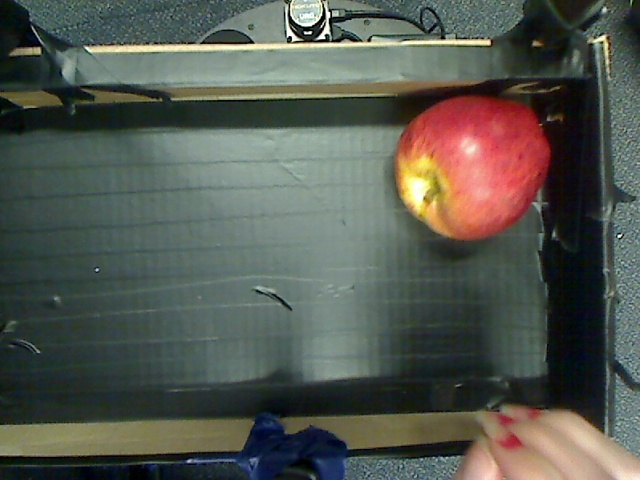apple: (386, 86, 561, 244)
